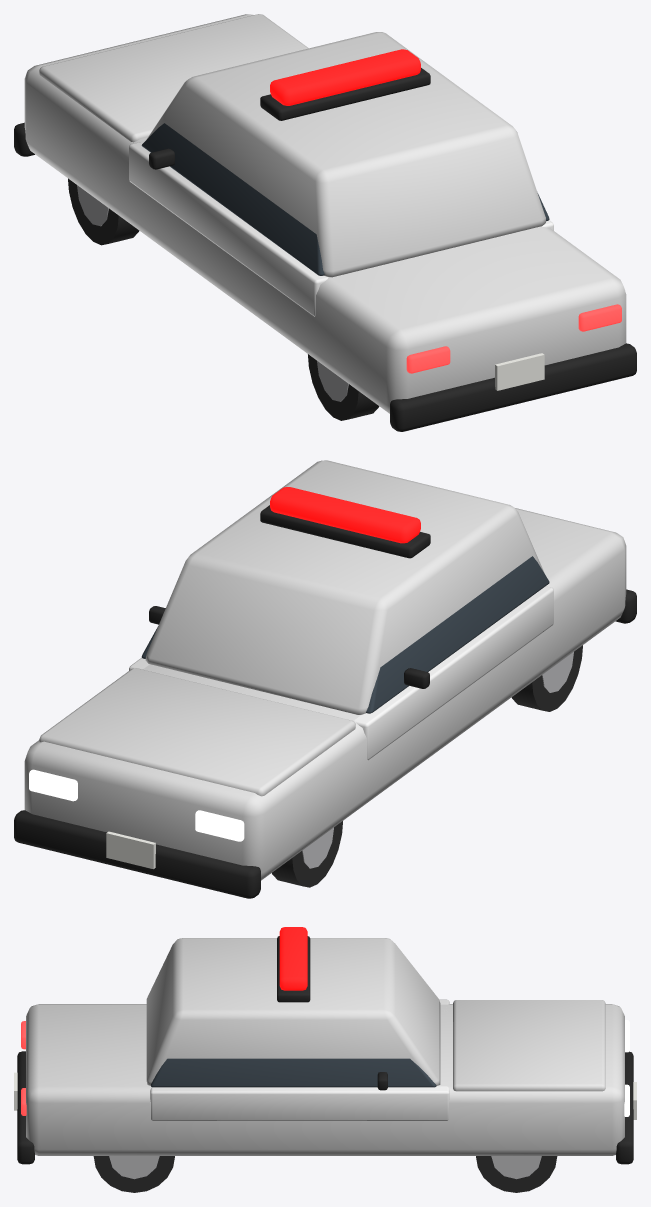
Rendered from car_police.glb.
The picture shows the model from 3 angles, top to bottom: view 1: azimuth 30°, elevation 25°; view 2: azimuth 150°, elevation 25°; view 3: azimuth 270°, elevation 25°; orthographic projection. The views are drawn at different scales.
Parts seen in each view (by area): view 1: Body, Body_White, Trim, Glass, Light_Siren, LightBarBase, WheelMesh_RL, WheelMesh_FL, Light_Tail, Plate; view 2: Body, Body_White, Trim, Glass, Light_Siren, LightBarBase, Light_Head, WheelMesh_RL, WheelMesh_FL, Plate, Mirror; view 3: Body, Body_White, Glass, WheelMesh_FR, WheelMesh_RR, Trim, Light_Siren, LightBarBase.
Part boxes in pixels (box(x1,y1,x2,y2)): Body: box(24, 14, 626, 413); Body_White: box(129, 141, 553, 316); Trim: box(14, 122, 636, 431); Glass: box(141, 123, 549, 275); Light_Siren: box(270, 49, 420, 105); LightBarBase: box(260, 68, 430, 120); WheelMesh_RL: box(308, 354, 379, 420); WheelMesh_FL: box(68, 178, 139, 245); Light_Tail: box(406, 304, 621, 373); Plate: box(495, 353, 544, 390); Body: box(24, 460, 626, 880); Body_White: box(129, 586, 553, 760); Trim: box(14, 589, 636, 898); Glass: box(141, 556, 549, 713); Light_Siren: box(270, 487, 420, 543); LightBarBase: box(260, 505, 430, 558); Light_Head: box(29, 769, 244, 841); WheelMesh_RL: box(511, 645, 582, 711); WheelMesh_FL: box(272, 821, 342, 887); Plate: box(106, 831, 155, 869); Mirror: box(149, 606, 429, 688); Body: box(26, 938, 624, 1155); Body_White: box(150, 999, 449, 1120); Glass: box(151, 1058, 436, 1087); WheelMesh_FR: box(476, 1156, 557, 1192); WheelMesh_RR: box(93, 1156, 174, 1192); Trim: box(17, 1051, 633, 1164); Light_Siren: box(279, 927, 307, 990); LightBarBase: box(277, 936, 310, 1002).
Size of the model in its own units: 2 by 1.71 by 4.89.
